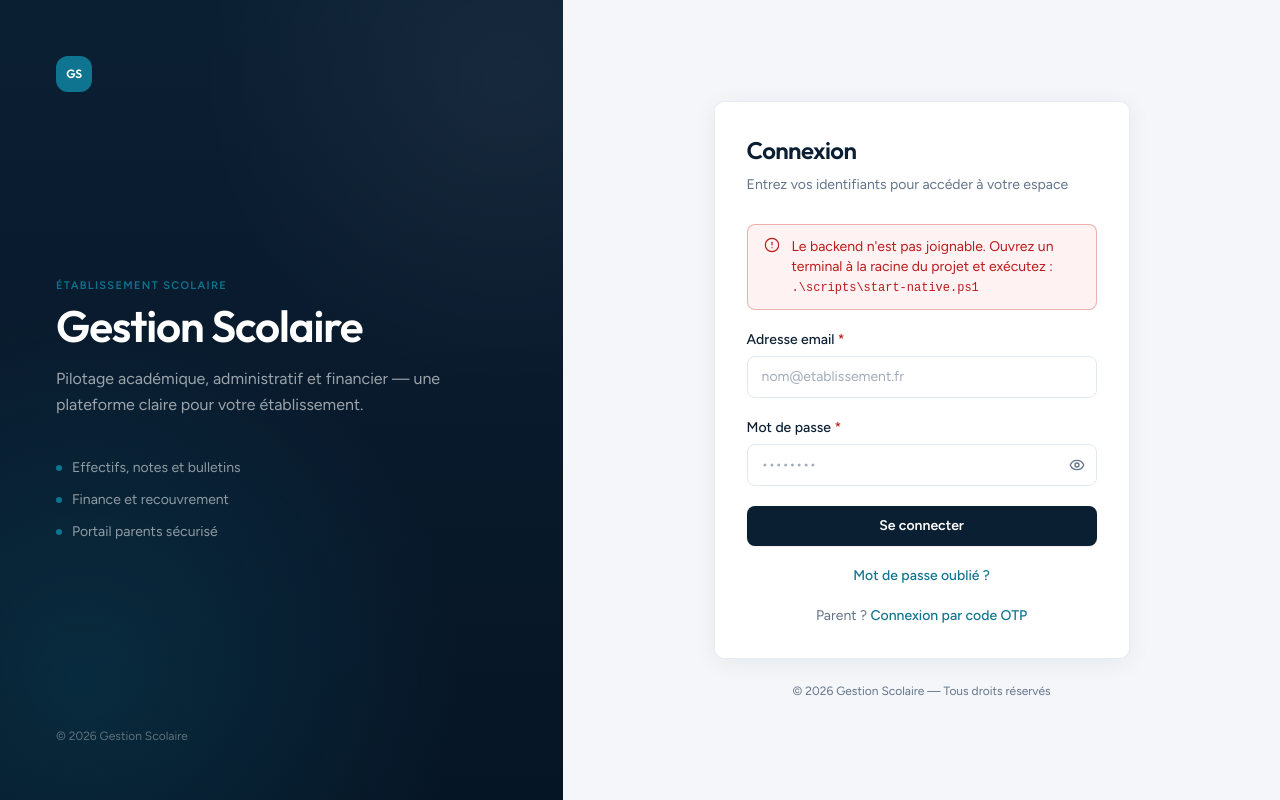
Test: Login › affiche des erreurs de validation si les champs sont vides
Click the button "Se connecter": (922, 526) [747,506,1097,546]
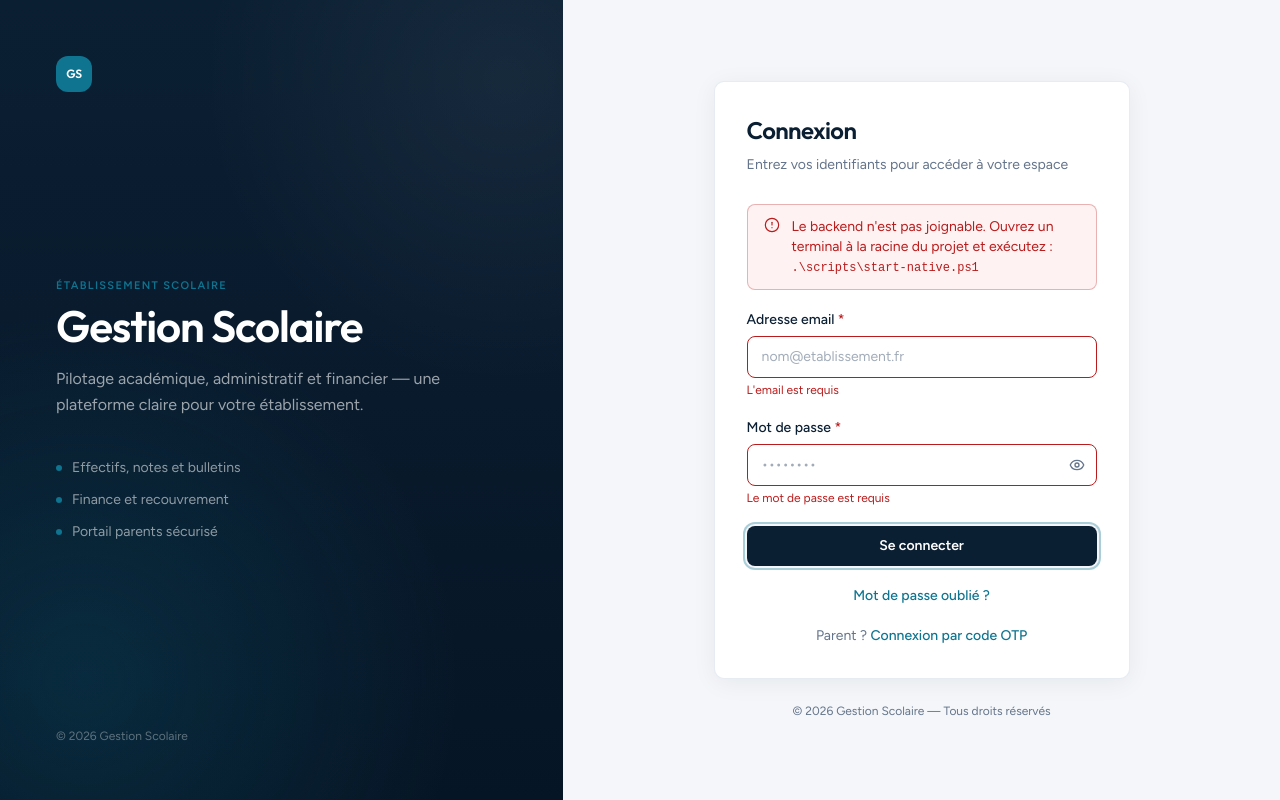
Now the text "L'email est requis" is shown, box [747,383,839,397]
Now the text "Le mot de passe est requis" is shown, box [747,491,890,505]
